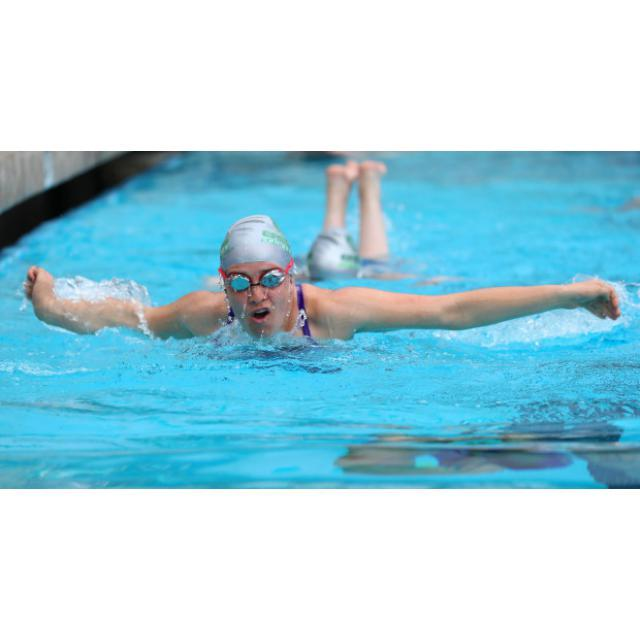human: (29, 167, 622, 344)
